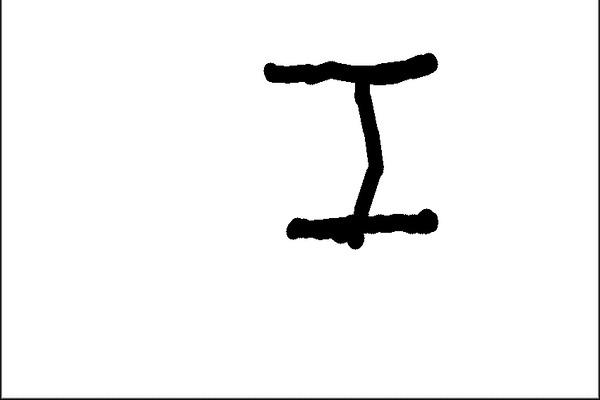i: (236, 41, 448, 242)
